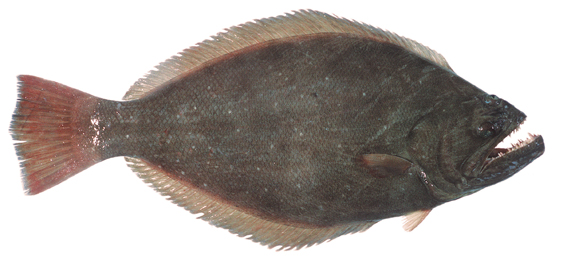fish: (8, 8, 546, 251)
